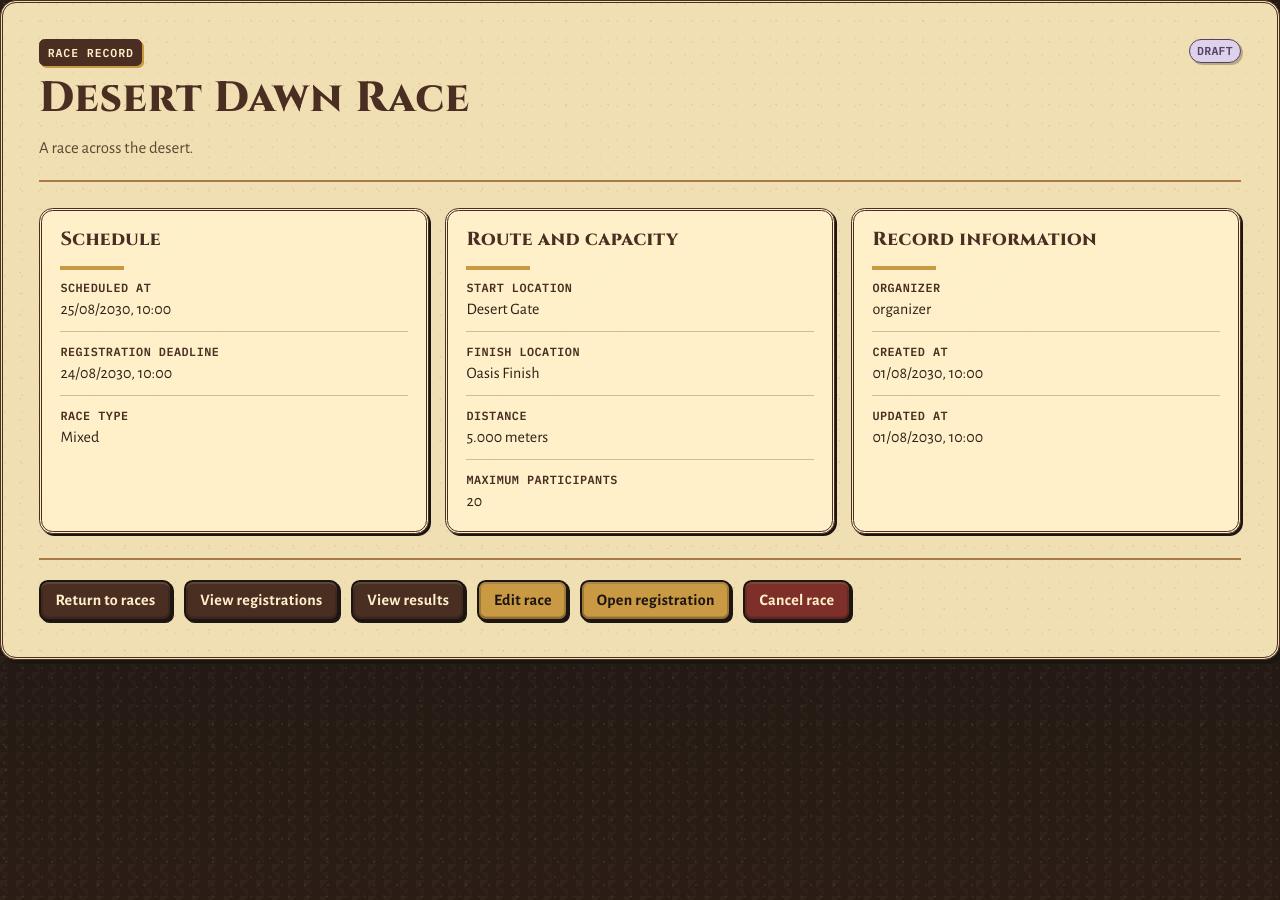
Test: RaceDetailPage › cancels a race after confirmation and hides management actions
Step 1. Click the button "Cancel race" → (797, 600), box 743,580 -> 851,621
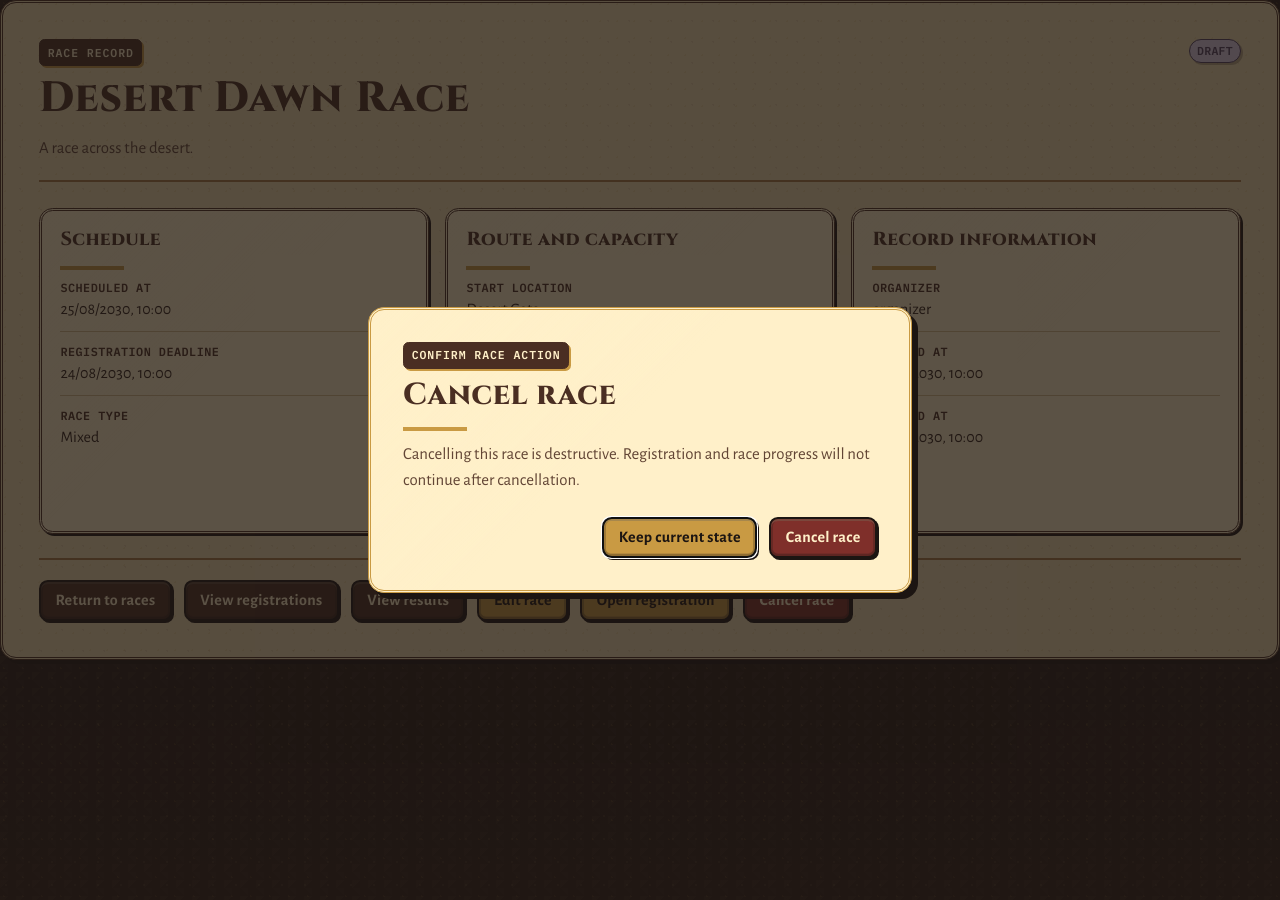
Step 2. Click the button "Cancel race" → (823, 538), box 769,517 -> 877,558
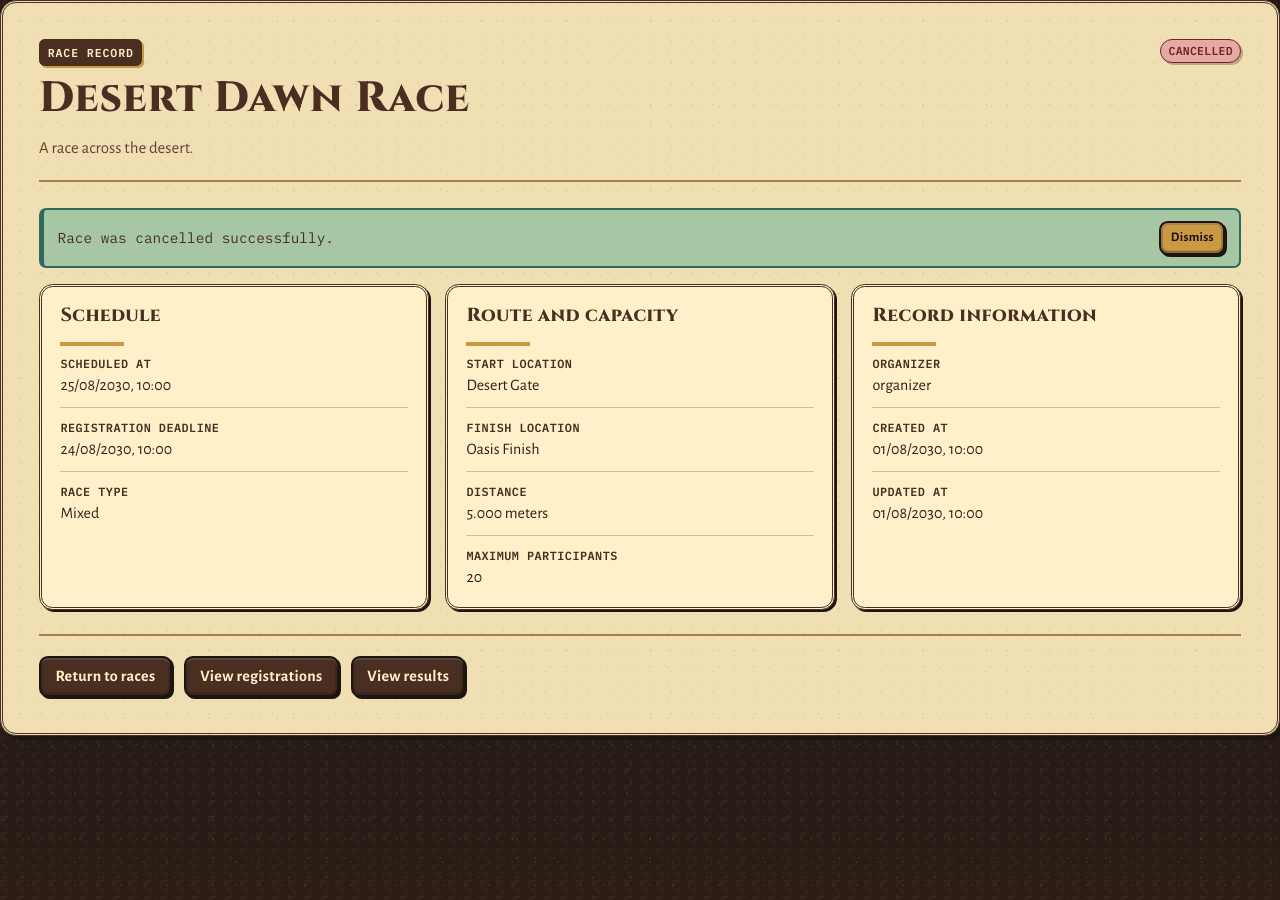
Result: the text "Race was cancelled successfully." is shown at 58,228 -> 334,247
Result: the link "Edit race" is gone
Result: the button "Cancel race" is gone
